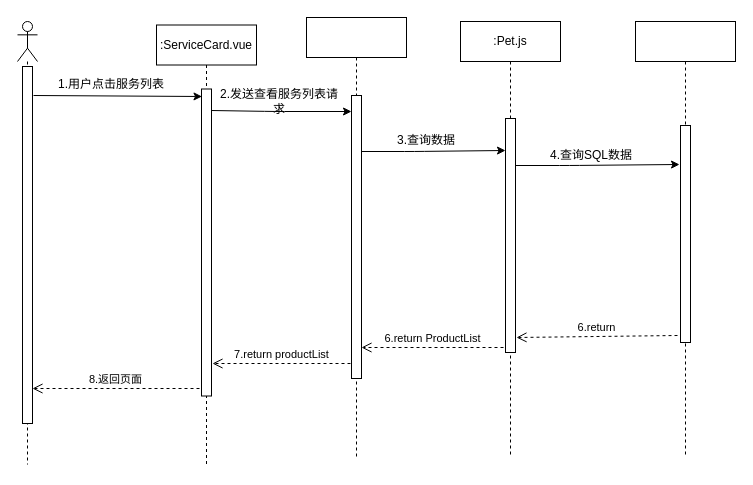
Image size: 753x485. Some labels were removed from this diagram. Each missing label, with the box of its shape:
:PetsService.js: (306, 16, 406, 460)
MYSQL数据库: (634, 20, 736, 456)
